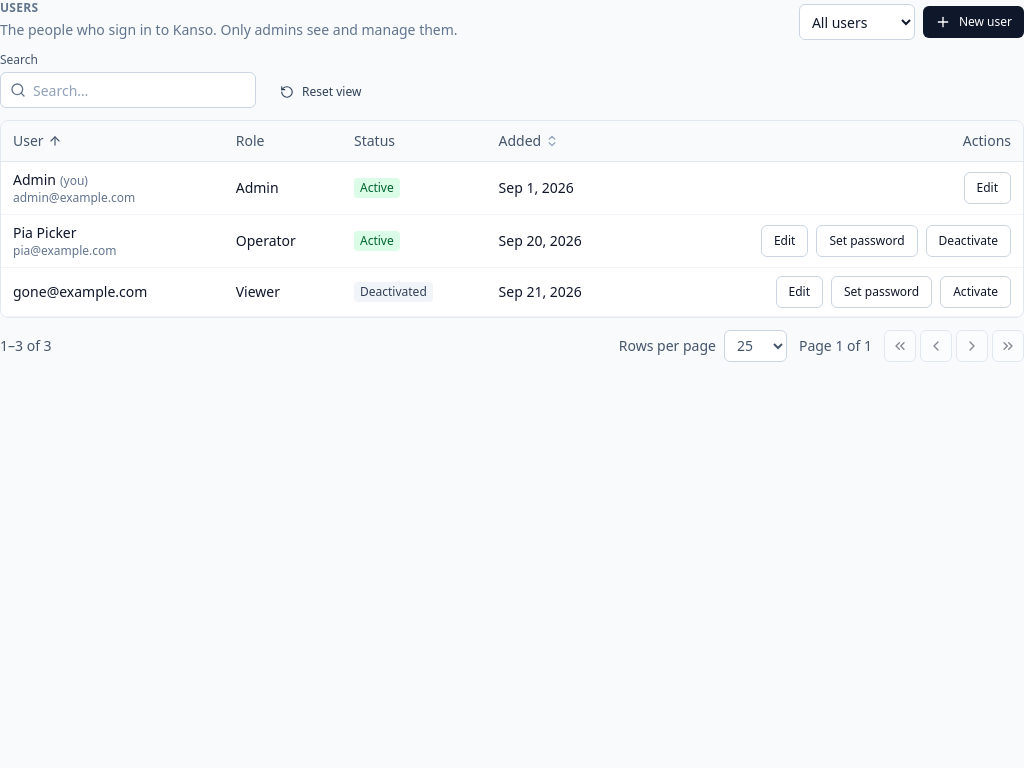
Test case: User settings › shows the last-admin refusal at the role
The image size is (1024, 768).
Click the button with aria-label "Edit Admin": click(987, 188) [964,172,1011,204]
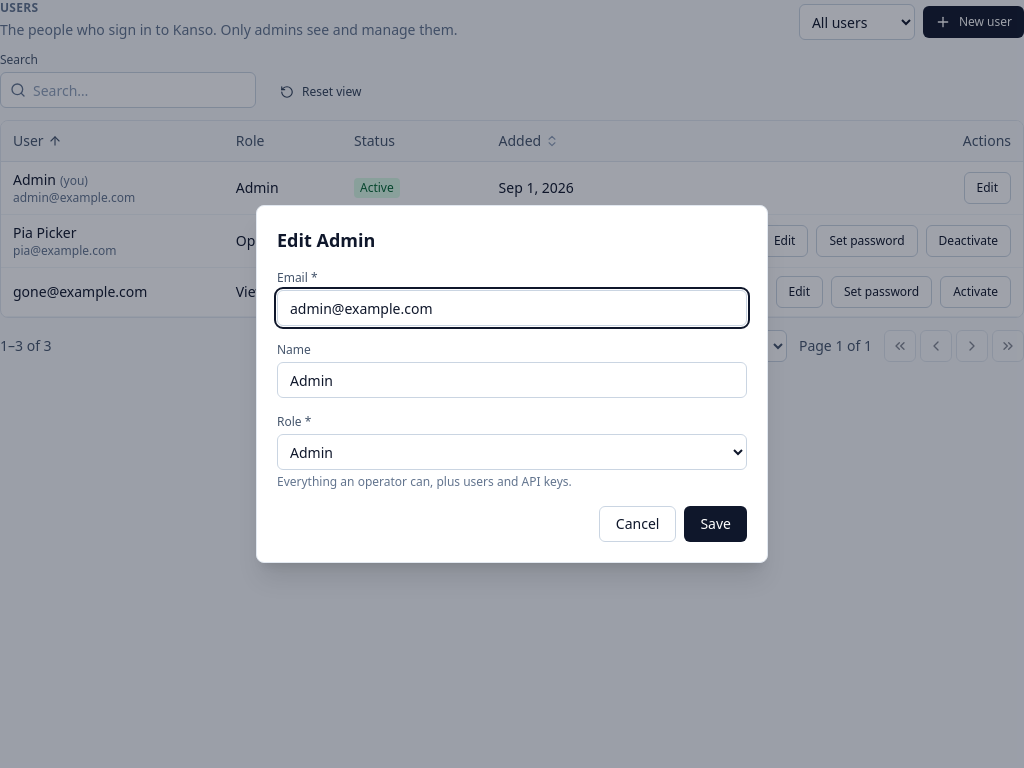
Select "Operator" in the dropdown labelled "Role *": (512, 452) [277,434,747,470]
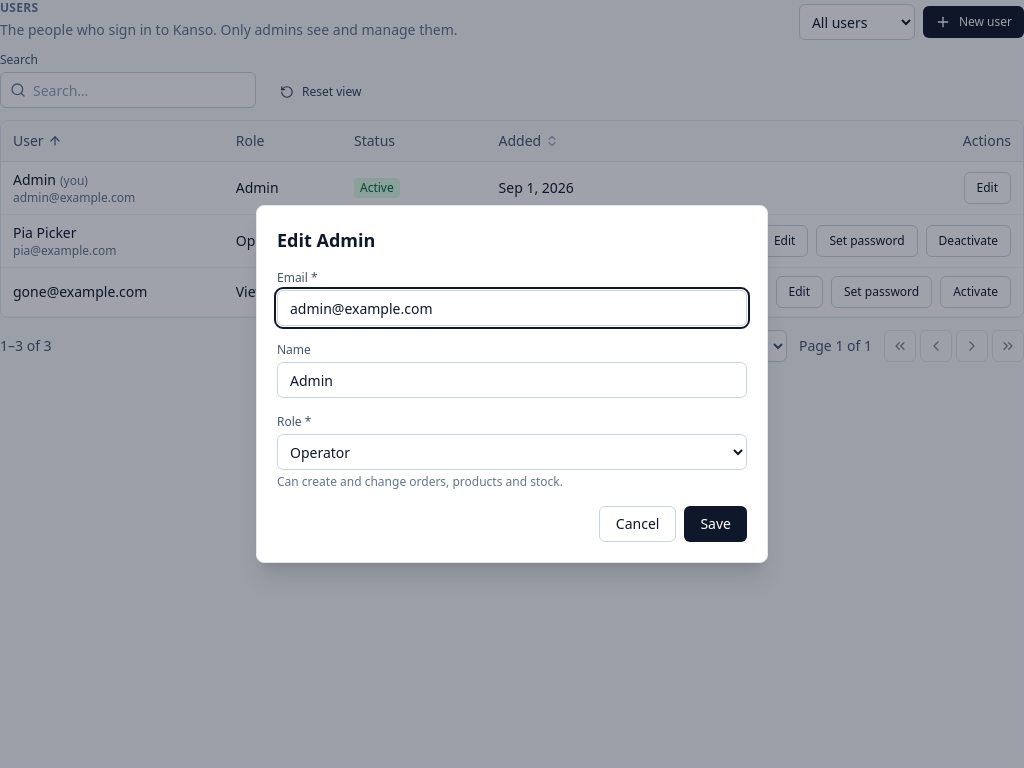
Click the button "Save": click(716, 524) [684,506,747,542]
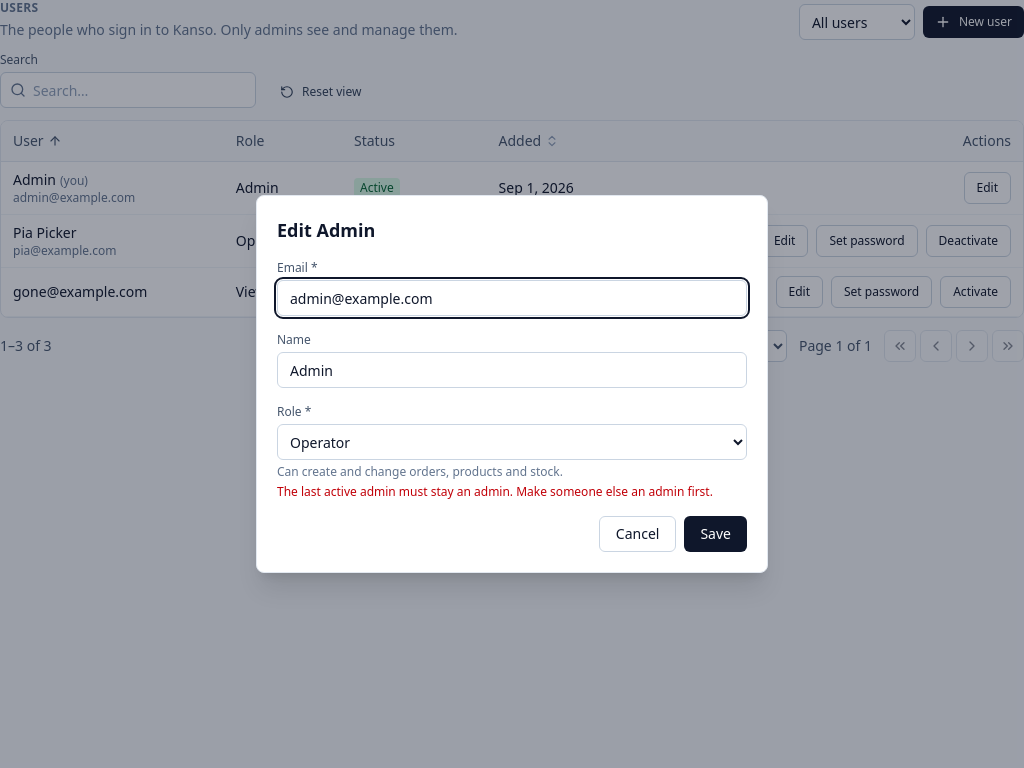
Now the text "The last active admin must stay an admin. Make someone else an admin first." is shown, box [277,484,747,500]
